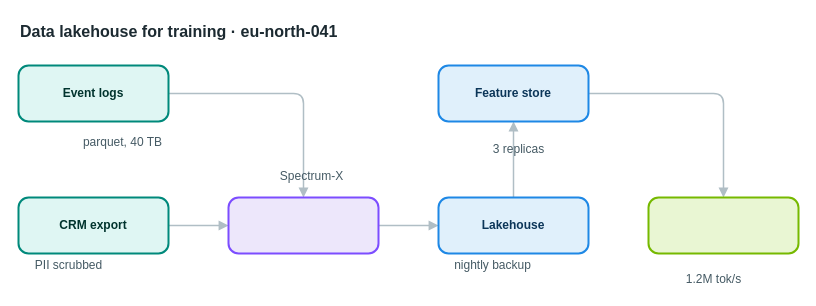
Image size: 816x306. Some labels were removed from this diagram. The shapes that lost their labels are listed below. From the top down, each one's box as (x1, y1, x2, y2) in pixels, then its label:
(227, 196, 379, 254): Stream bus
(647, 196, 799, 254): Training jobs
